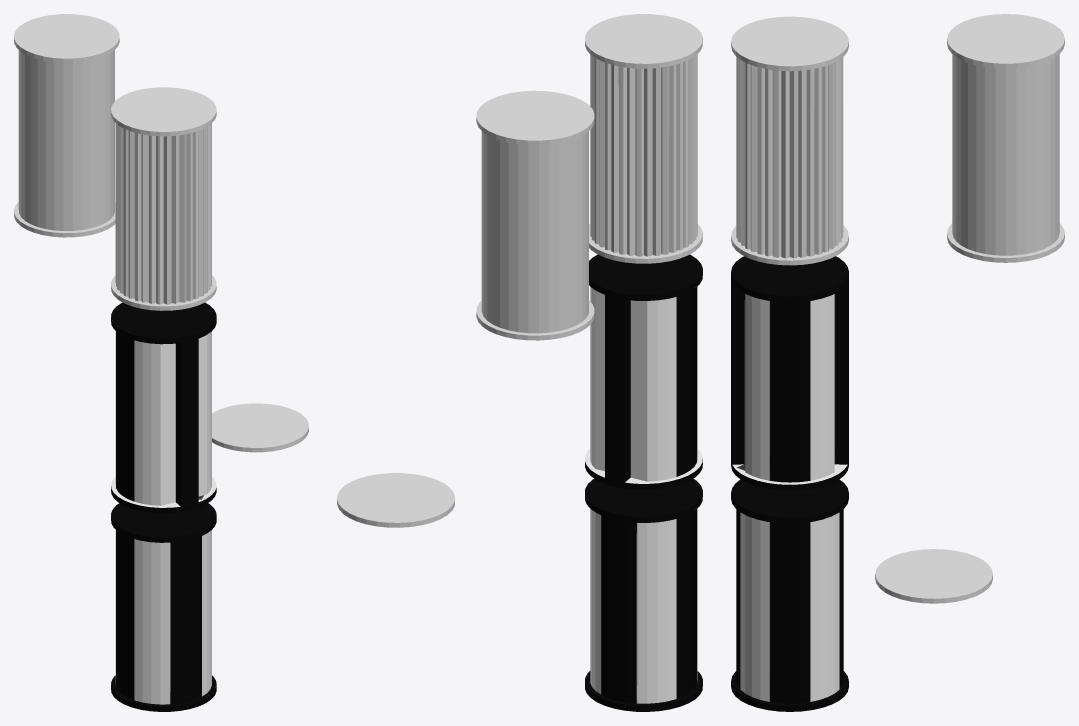
Rendered from rocket_fuel-tank.fbx.
3 renders of one model, left to right at view 1: azimuth 30°, elevation 25°; view 2: azimuth 150°, elevation 25°; view 3: azimuth 270°, elevation 25°, orthographic. The views are drawn at different scales.
Parts seen in each view (by area): view 1: Circle, Cylinder.003, Cylinder.002, Cylinder.001, Cylinder; view 2: Cylinder.003, Circle, Cylinder.002, Cylinder.001, Cylinder; view 3: Circle, Cylinder.003, Cylinder.002, Cylinder.001, Cylinder.
Part boxes in pixels (x1,y1,x2,y2): Circle: [111, 87, 216, 310]; Cylinder.003: [14, 14, 119, 237]; Cylinder.002: [111, 302, 216, 513]; Cylinder.001: [111, 503, 216, 711]; Cylinder: [212, 403, 308, 452]; Cylinder.003: [476, 90, 594, 340]; Circle: [585, 14, 702, 263]; Cylinder.002: [585, 254, 702, 489]; Cylinder.001: [585, 478, 702, 711]; Cylinder: [337, 473, 454, 527]; Circle: [731, 16, 848, 265]; Cylinder.003: [947, 14, 1064, 262]; Cylinder.002: [731, 256, 848, 490]; Cylinder.001: [731, 479, 848, 711]; Cylinder: [875, 549, 992, 603].
Size of the model in its own units: 597 by 1335 by 623.
